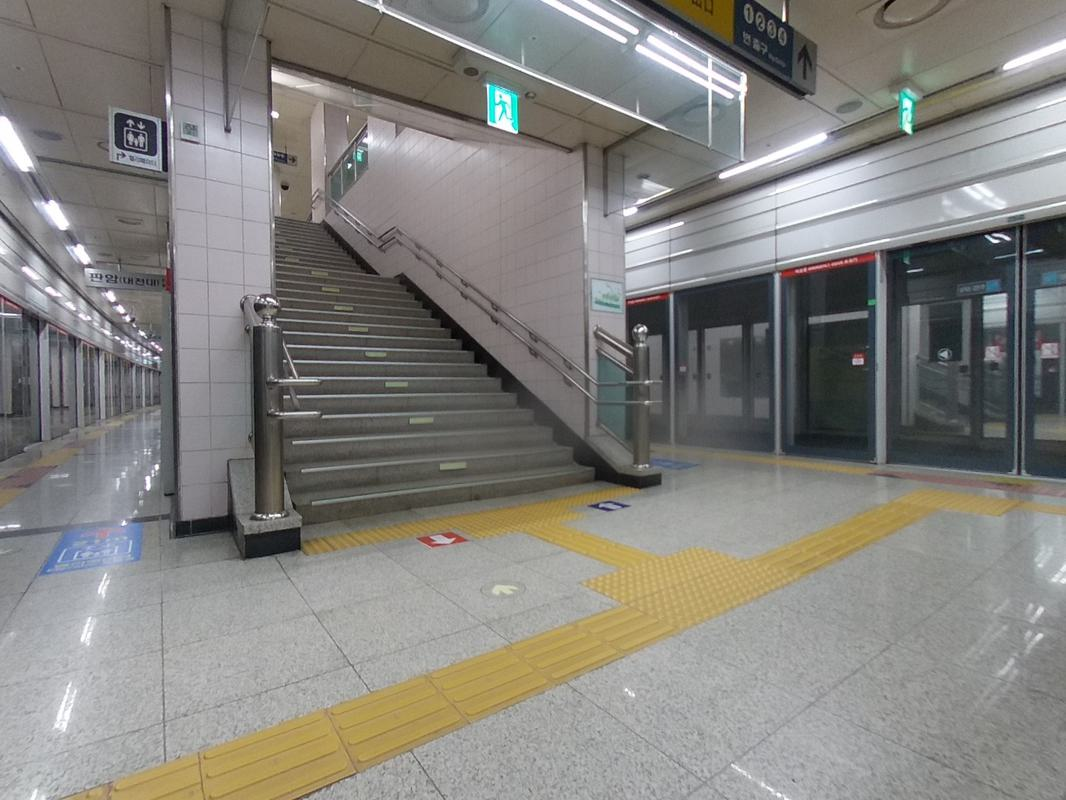door: (881, 223, 1021, 476), (780, 254, 878, 459)
elevator: (628, 210, 1058, 478)
elevator door: (885, 219, 1018, 473)
rail: (327, 182, 664, 480)
stairs: (266, 206, 595, 521), (286, 459, 598, 525)
stairwell: (266, 216, 595, 521)
station: (2, 2, 1060, 792)
subway: (6, 425, 1063, 794)
subway station: (2, 0, 1060, 792)
